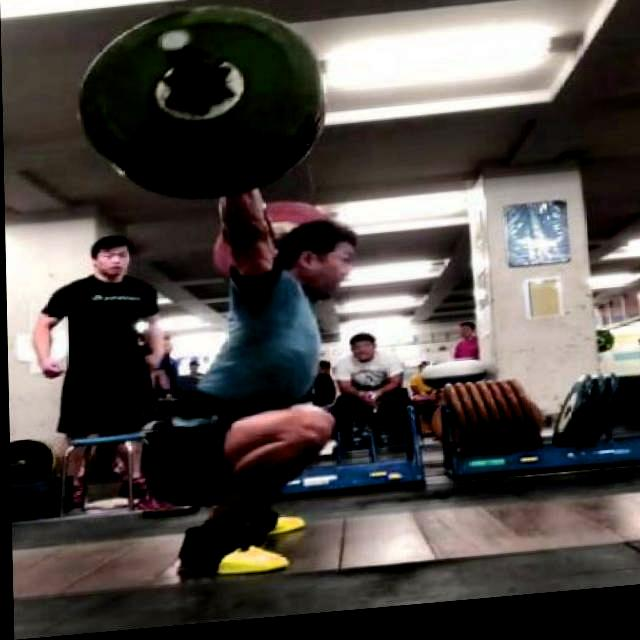barbell: (70, 1, 325, 198)
